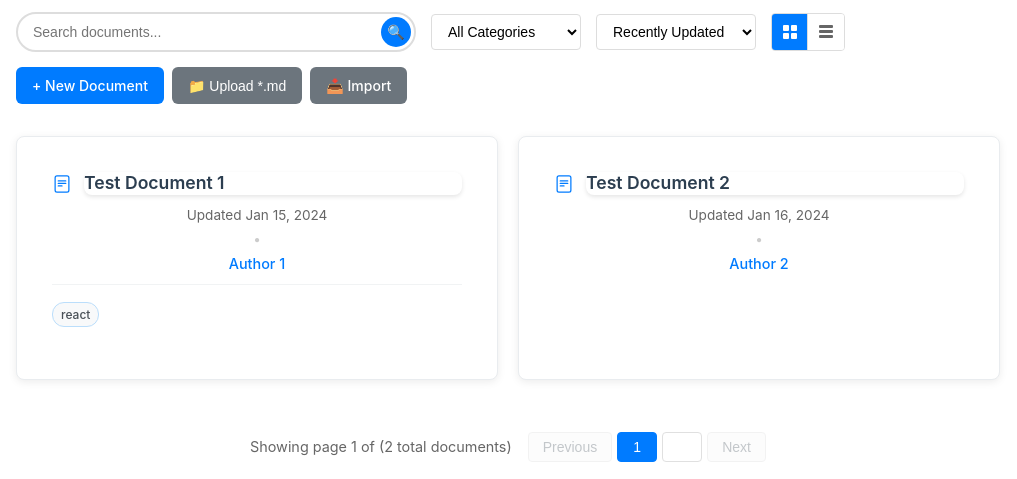
Test: DocumentList › view toggle › switches to list view when list button clicked
Expected: the heading "Test Document 1" is shown, x1=84 y1=172 x2=224 y2=193
Click the button titled "List view" at (826, 32), box x1=808 y1=14 x2=844 y2=50
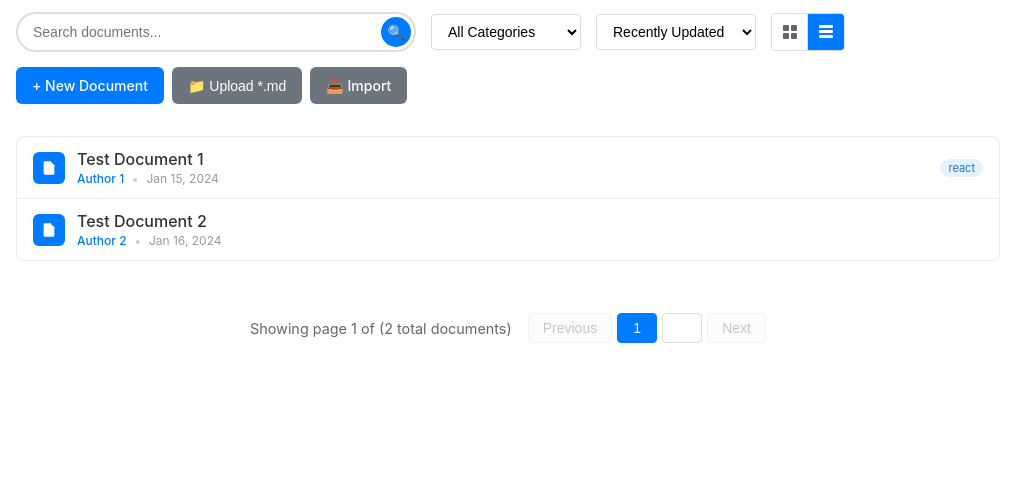
Now the element with class "documents-list" is shown, box x1=16 y1=136 x2=1000 y2=261
